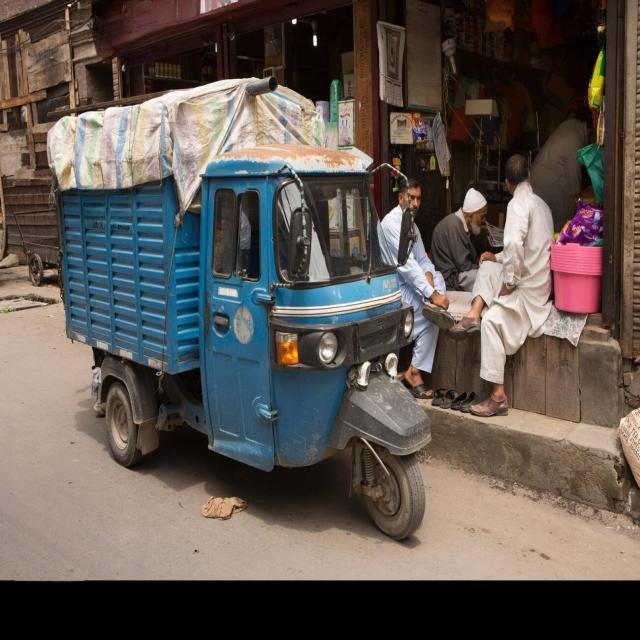autorickshaw: (48, 78, 430, 539)
